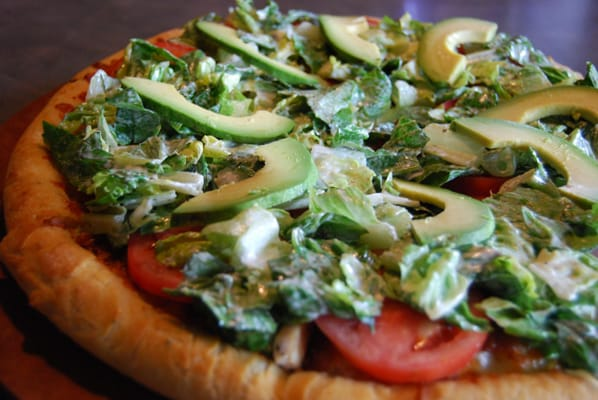sandwich: (3, 9, 598, 393)
